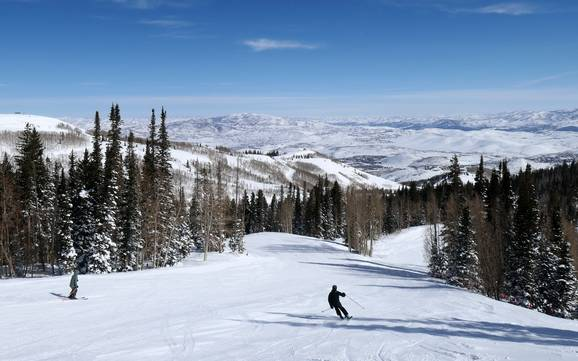skier: (319, 282, 367, 324), (58, 267, 89, 303)
